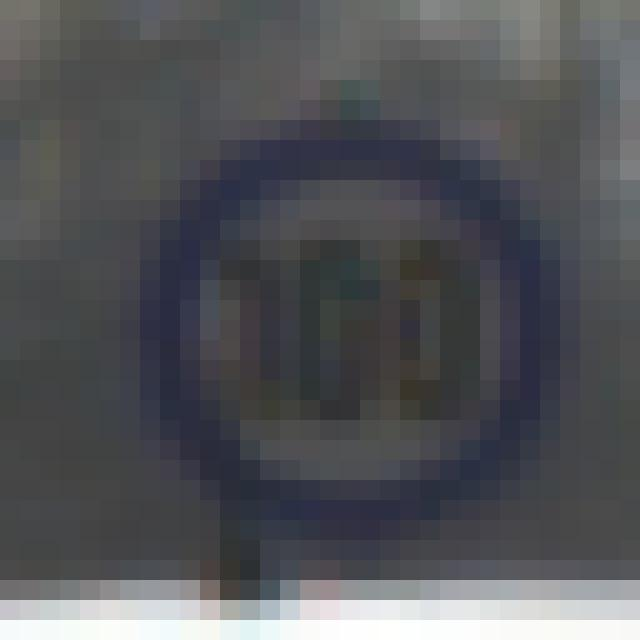SPEED LIMIT 100: (141, 132, 558, 530)
